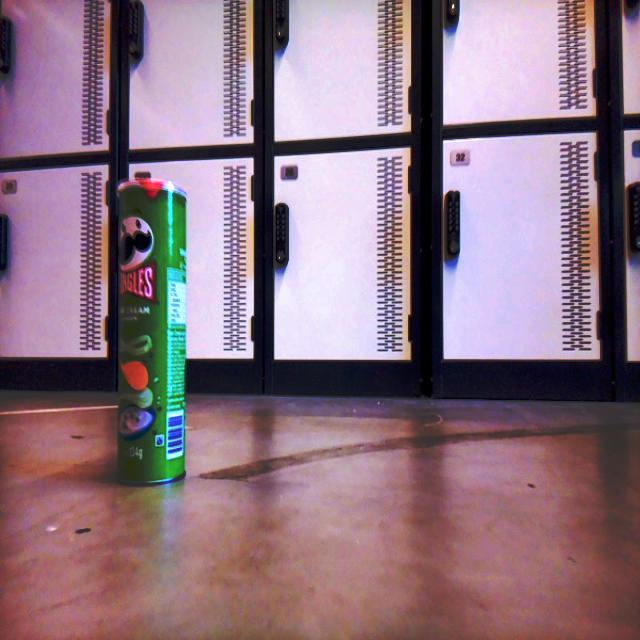greenpringles: (112, 165, 192, 499)
